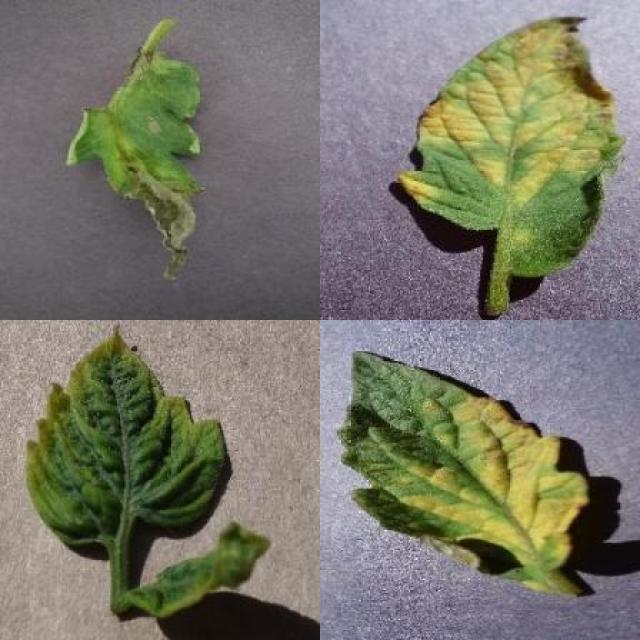Late Blight: (62, 49, 205, 280)
Leaf Mold: (337, 348, 589, 598), (400, 15, 627, 278)
Yellow Leaf Curl Virus: (27, 326, 226, 546)
